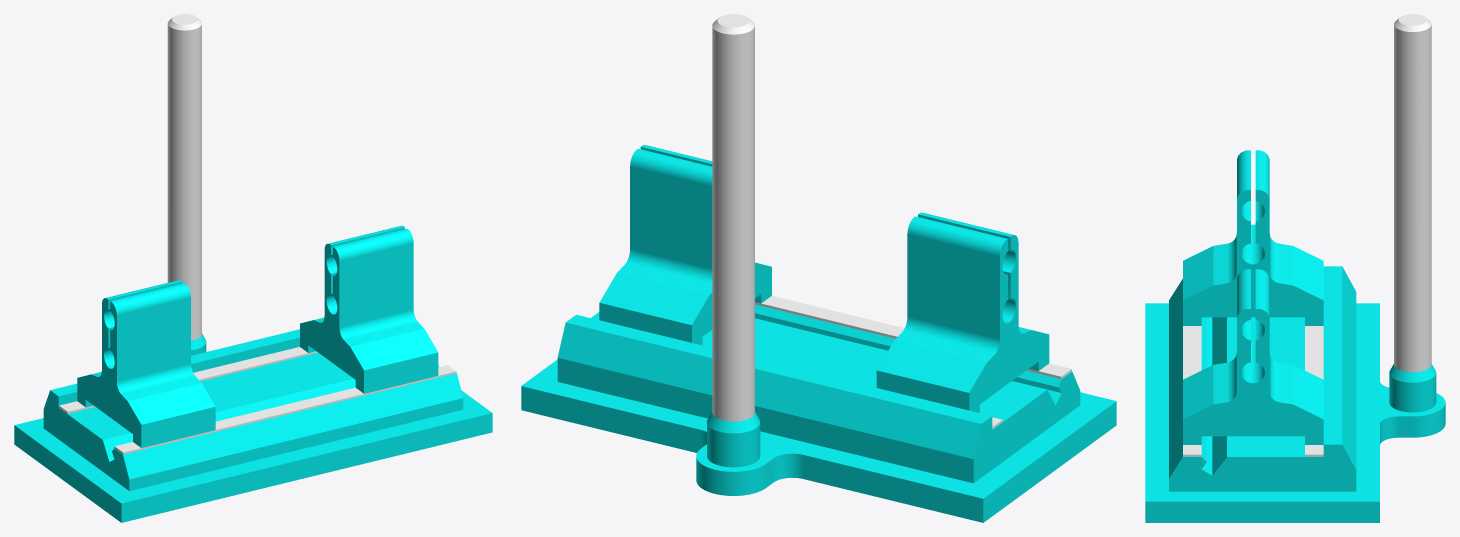
3 views of the same model, side by side, from view 1: azimuth 30°, elevation 25°; view 2: azimuth 150°, elevation 25°; view 3: azimuth 270°, elevation 25° (orthographic). The views are drawn at different scales.
Parts seen in each view (by area): view 1: NONE_DC_Shell, _1_DC_Shell; view 2: NONE_DC_Shell, _1_DC_Shell; view 3: NONE_DC_Shell, _1_DC_Shell.
Boxes of the visible parts, bbox=[...] form: NONE_DC_Shell: bbox=[14, 14, 492, 522]; _1_DC_Shell: bbox=[77, 225, 438, 447]; NONE_DC_Shell: bbox=[521, 14, 1116, 522]; _1_DC_Shell: bbox=[599, 145, 1049, 412]; NONE_DC_Shell: bbox=[1145, 14, 1445, 522]; _1_DC_Shell: bbox=[1183, 150, 1323, 444].
Bounding box in the file's own units: 100 × 95 × 64.
